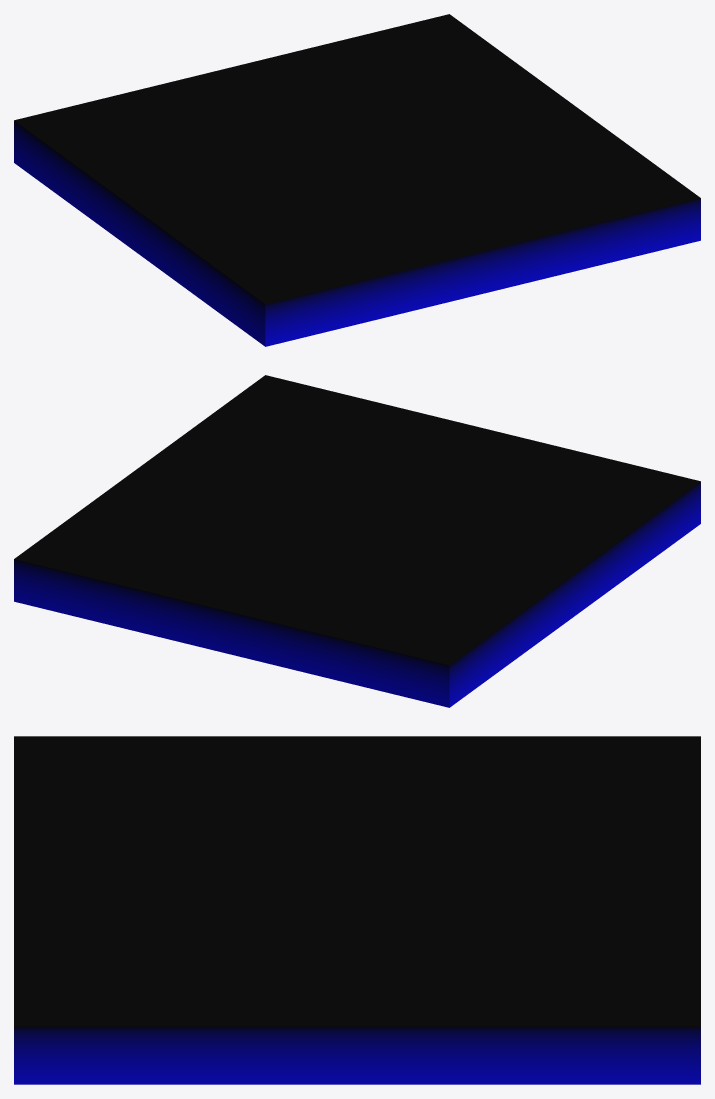
The model's file is DioramaWater.fbx.
The picture shows the model from 3 angles, top to bottom: view 1: azimuth 30°, elevation 25°; view 2: azimuth 150°, elevation 25°; view 3: azimuth 270°, elevation 25°; orthographic projection. The views are drawn at different scales.
Parts seen in each view (by area): view 1: DioramaWater; view 2: DioramaWater; view 3: DioramaWater.
Boxes of the visible parts, x1,y1,x2,y2 form: DioramaWater: (14,14,700,346); DioramaWater: (14,375,700,707); DioramaWater: (14,736,700,1084).
Size of the model in its own units: 0.75 by 0.07 by 0.75.
